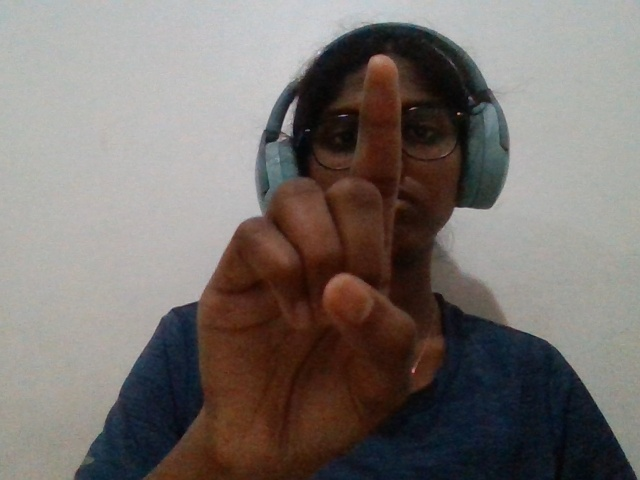D: (153, 44, 450, 476)
